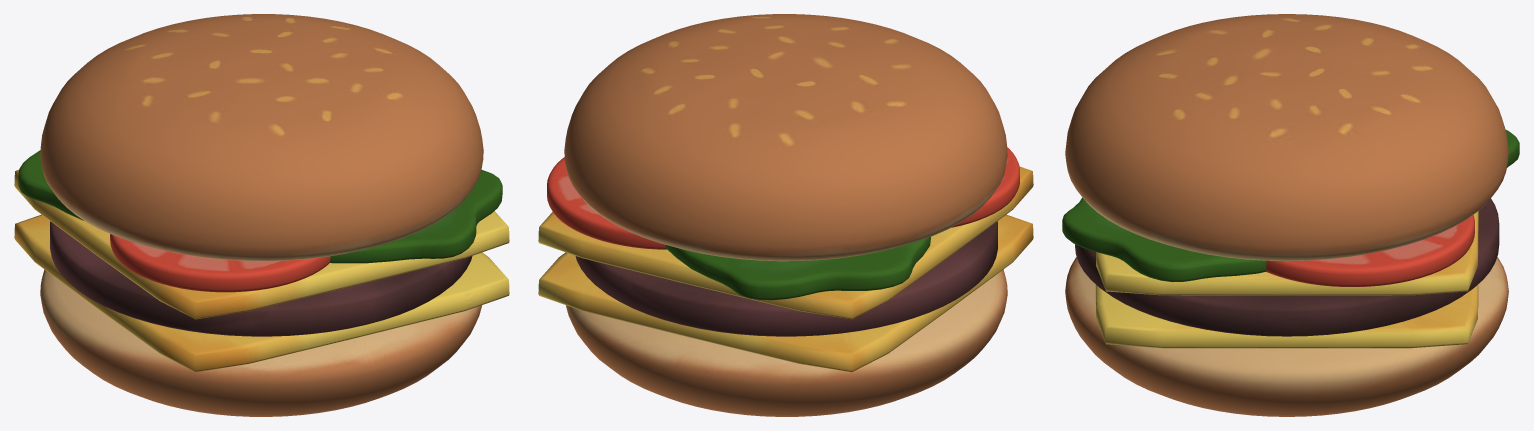
Rendered from burger-klasik.glb.
3 views of the same model, side by side, from view 1: azimuth 30°, elevation 25°; view 2: azimuth 150°, elevation 25°; view 3: azimuth 270°, elevation 25° (orthographic).
Parts seen in each view (by area): view 1: Cylinder.010; view 2: Cylinder.010; view 3: Cylinder.010.
Part boxes in pixels (box(x1,y1,x2,y2)): Cylinder.010: box(14, 14, 509, 416); Cylinder.010: box(538, 14, 1033, 416); Cylinder.010: box(1062, 14, 1519, 416).
Size of the model in its own units: 0.1164 by 0.0831 by 0.1201.
1 material, 1 textured.
